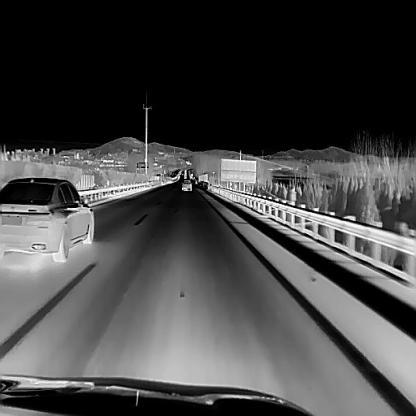car: (0, 176, 93, 264), (181, 178, 191, 189)
